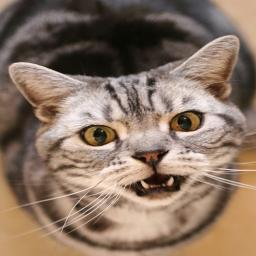catnose: (130, 148, 170, 166)
